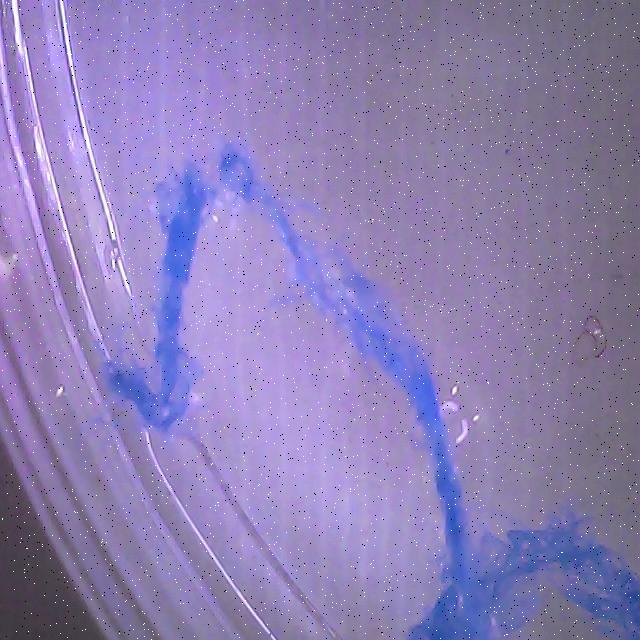fibers: (188, 118, 548, 605), (103, 159, 211, 432), (411, 518, 640, 640)
